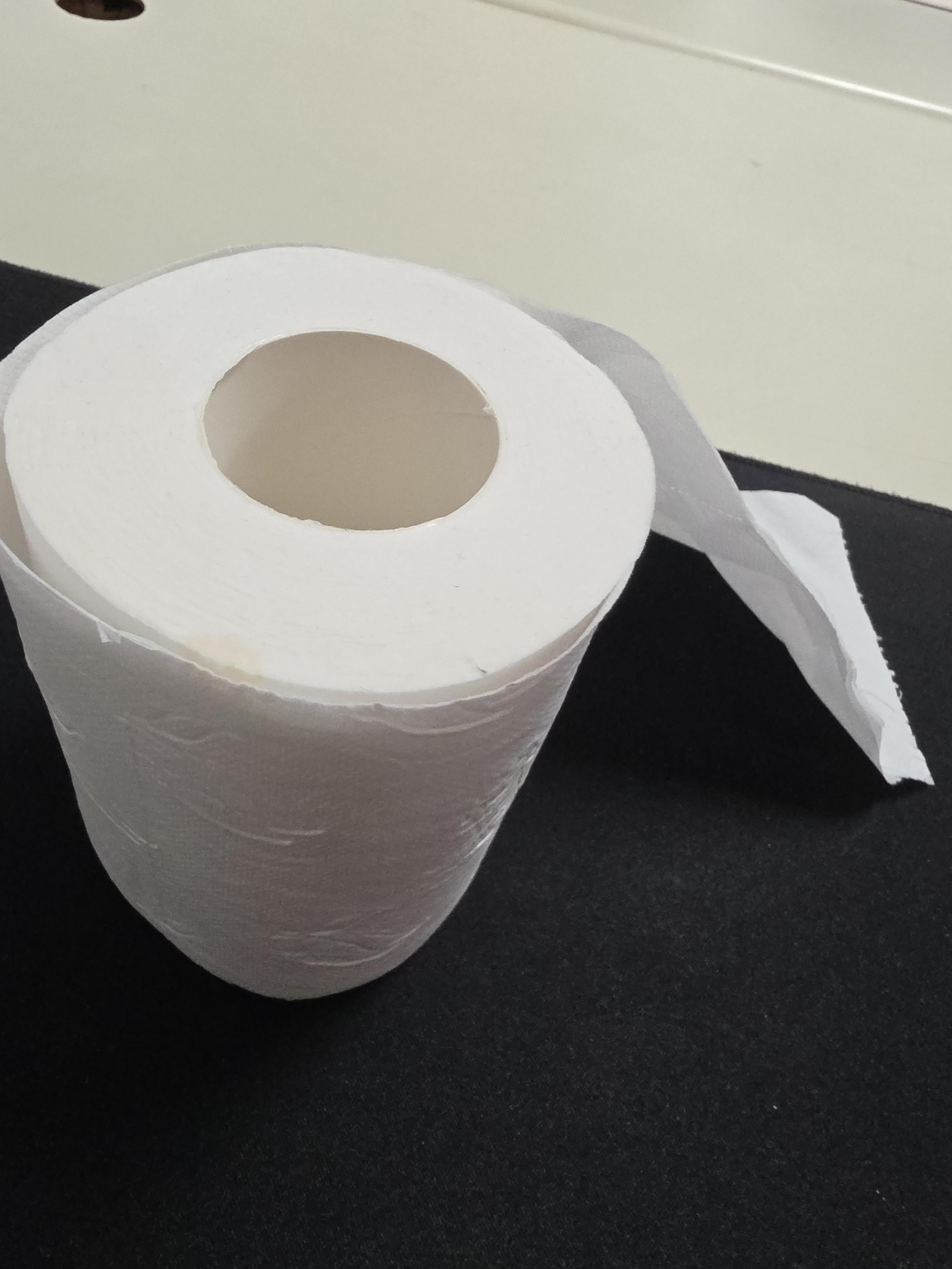tissue: (0, 242, 935, 1003)
